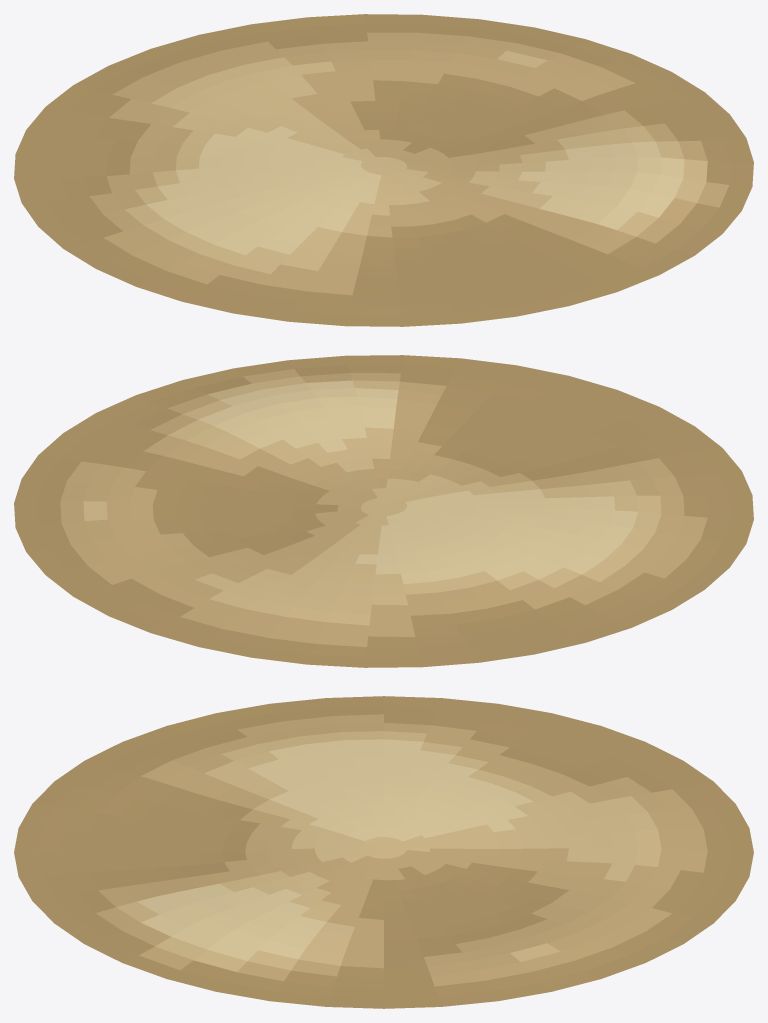
File: suelo-arena-arena-parche-redondo.glb
3 renders of one model, top to bottom at view 1: azimuth 30°, elevation 25°; view 2: azimuth 150°, elevation 25°; view 3: azimuth 270°, elevation 25°, orthographic.
Parts seen in each view (by area): view 1: arena_parche_redondo_ArenaHuella, arena_parche_redondo_ArenaOscura, arena_parche_redondo_ArenaClara, arena_parche_redondo_ArenaMedia; view 2: arena_parche_redondo_ArenaHuella, arena_parche_redondo_ArenaOscura, arena_parche_redondo_ArenaClara, arena_parche_redondo_ArenaMedia; view 3: arena_parche_redondo_ArenaHuella, arena_parche_redondo_ArenaOscura, arena_parche_redondo_ArenaClara, arena_parche_redondo_ArenaMedia.
Part boxes in pixels (x1,y1,x2,y2): arena_parche_redondo_ArenaHuella: (14, 14, 753, 326); arena_parche_redondo_ArenaOscura: (90, 32, 729, 295); arena_parche_redondo_ArenaClara: (146, 126, 684, 255); arena_parche_redondo_ArenaMedia: (125, 50, 707, 274); arena_parche_redondo_ArenaHuella: (14, 355, 753, 667); arena_parche_redondo_ArenaOscura: (60, 369, 707, 647); arena_parche_redondo_ArenaClara: (198, 380, 637, 584); arena_parche_redondo_ArenaMedia: (83, 376, 661, 625); arena_parche_redondo_ArenaHuella: (14, 696, 753, 1008); arena_parche_redondo_ArenaOscura: (96, 714, 707, 986); arena_parche_redondo_ArenaClara: (137, 739, 532, 960); arena_parche_redondo_ArenaMedia: (116, 731, 661, 971).
Bounding box in the file's own units: 8 × 0.1169 × 8.
